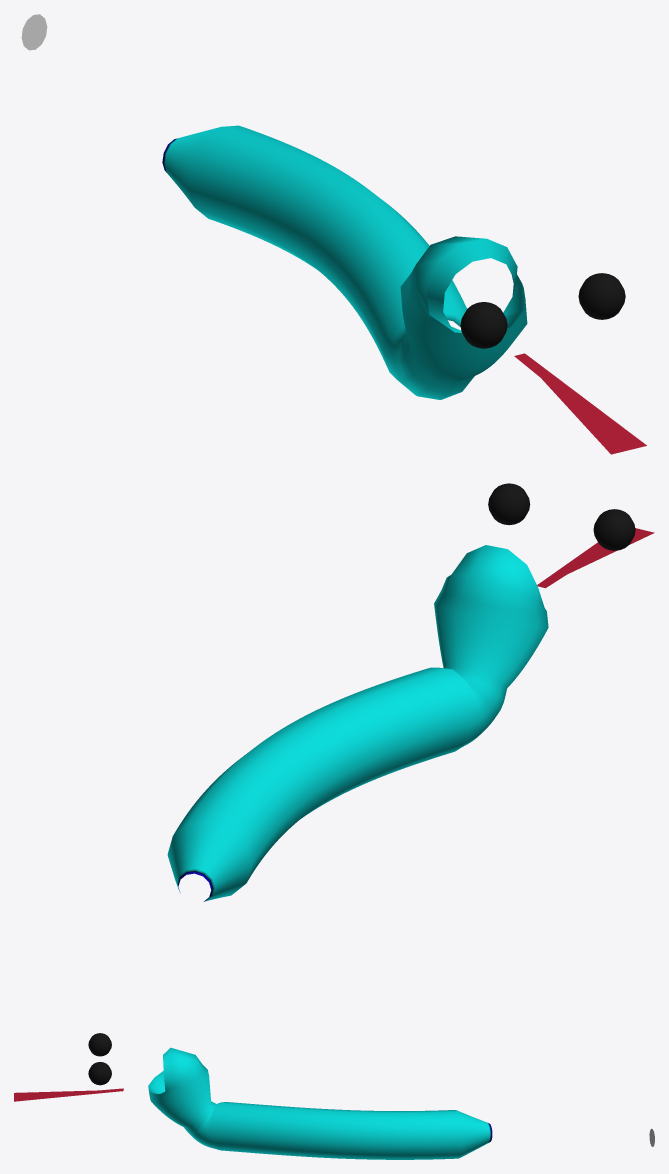
File: coral.glb
3 renders of one model, top to bottom at view 1: azimuth 30°, elevation 25°; view 2: azimuth 150°, elevation 25°; view 3: azimuth 270°, elevation 25°, orthographic. The views are drawn at different scales.
Size of the model in its own units: 0.3986 by 0.4157 by 2.45.
